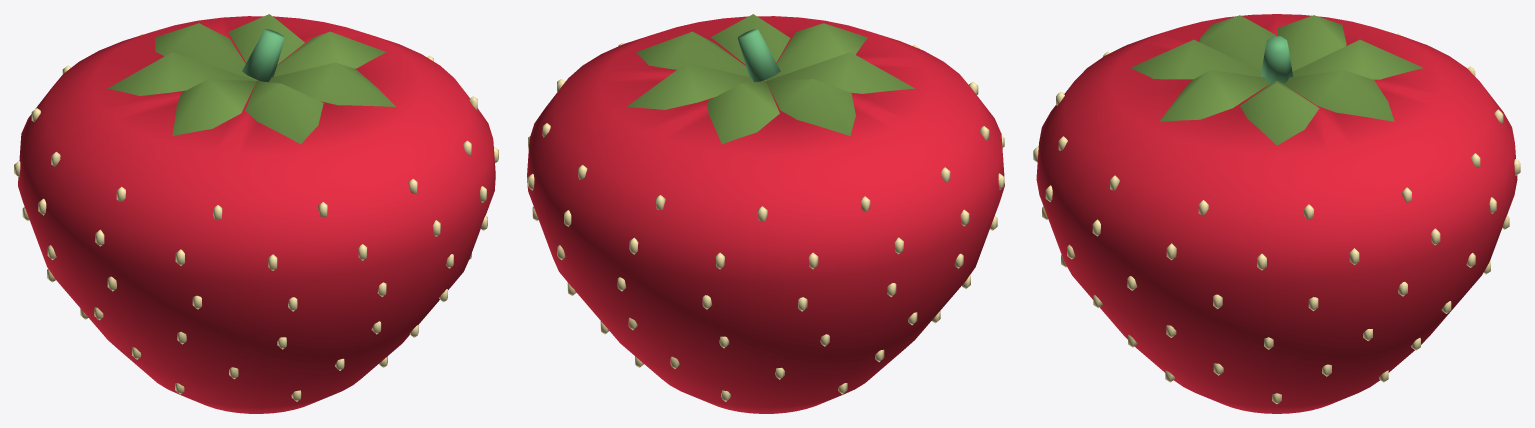
The model's file is strawberry.glb.
3 renders of one model, left to right at view 1: azimuth 30°, elevation 25°; view 2: azimuth 150°, elevation 25°; view 3: azimuth 270°, elevation 25°, orthographic.
Visible parts, largest first — view 1: strawberry; view 2: strawberry; view 3: strawberry.
Part boxes in pixels (box(x1,y1,x2,y2)): strawberry: box(14, 14, 498, 413); strawberry: box(527, 14, 1004, 413); strawberry: box(1033, 14, 1520, 413).
Bounding box in the file's own units: 1.99 × 1.63 × 1.99.
